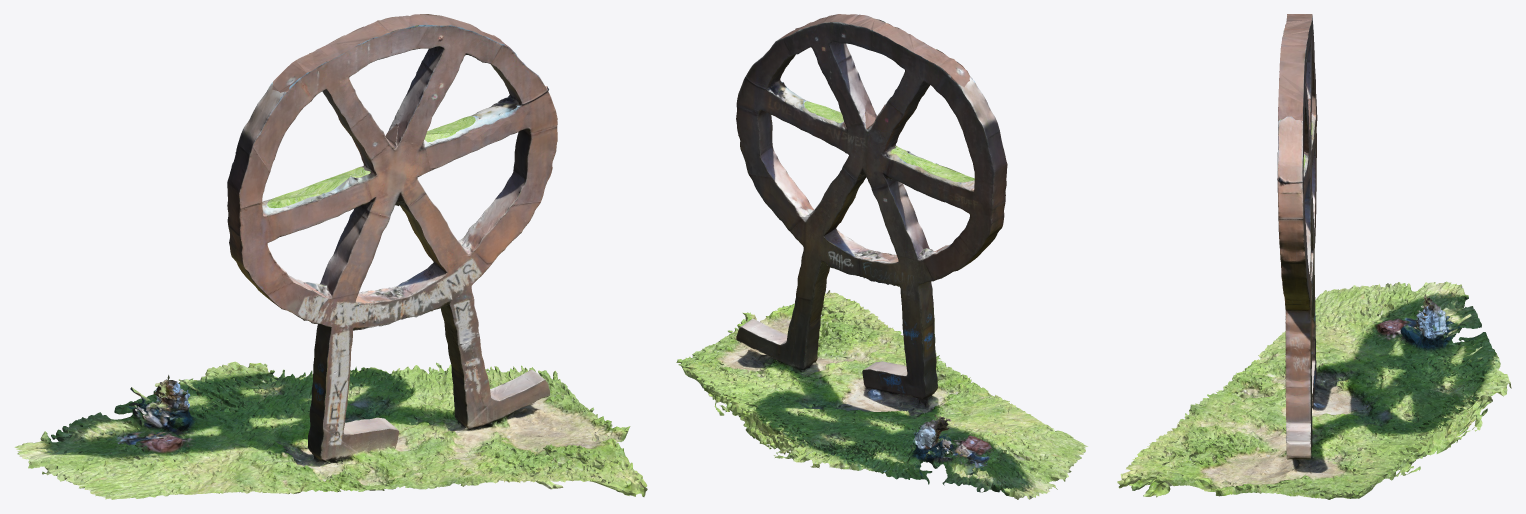
3 renders of one model, left to right at view 1: azimuth 30°, elevation 25°; view 2: azimuth 150°, elevation 25°; view 3: azimuth 270°, elevation 25°, orthographic. The views are drawn at different scales.
Visible parts, largest first — view 1: 2k.50k; view 2: 2k.50k; view 3: 2k.50k.
Part boxes in pixels (x1,y1,x2,y2): 2k.50k: (14,14,647,499); 2k.50k: (676,14,1087,499); 2k.50k: (1117,14,1511,499).
Size of the model in its own units: 3.2 by 2.76 by 2.51.
Materials: 1 (1 with a texture image).
